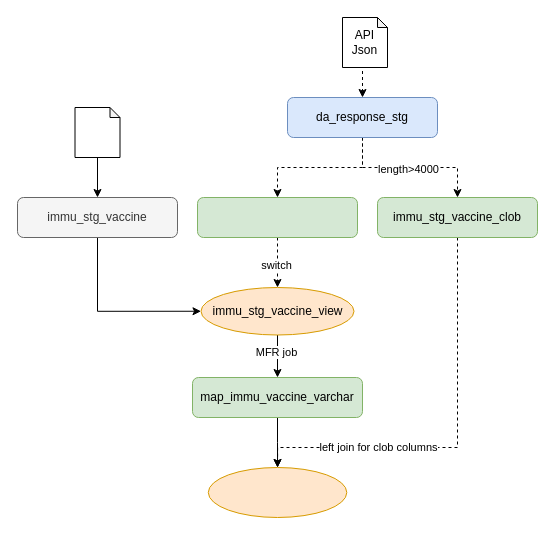
Some shapes in this 555 by 535 pixel diagram are drawn without their labels. Each missing label, with the centre of its shape:
Data file: point (97, 132)
immu_stg_vaccine_varchar: point (277, 217)
map_immu_vaccine: point (277, 492)
